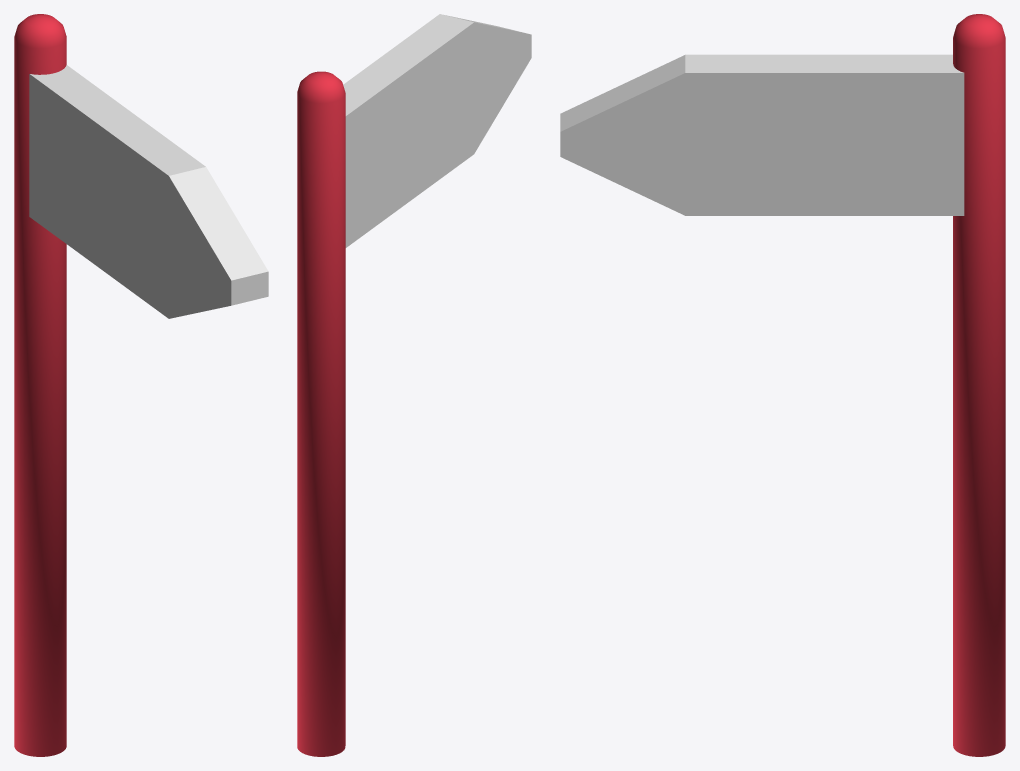
File: sign.fbx
3 views of the same model, side by side, from view 1: azimuth 30°, elevation 25°; view 2: azimuth 150°, elevation 25°; view 3: azimuth 270°, elevation 25° (orthographic). The views are drawn at different scales.
Parts seen in each view (by area): view 1: Cylinder.002; view 2: Cylinder.002; view 3: Cylinder.002.
Part boxes in pixels (left/top/right/bottom): Cylinder.002: left=14, top=14, right=268, bottom=756; Cylinder.002: left=297, top=14, right=531, bottom=756; Cylinder.002: left=560, top=14, right=1005, bottom=756.
Bounding box in the file's own units: 22.97 × 352 × 195.
